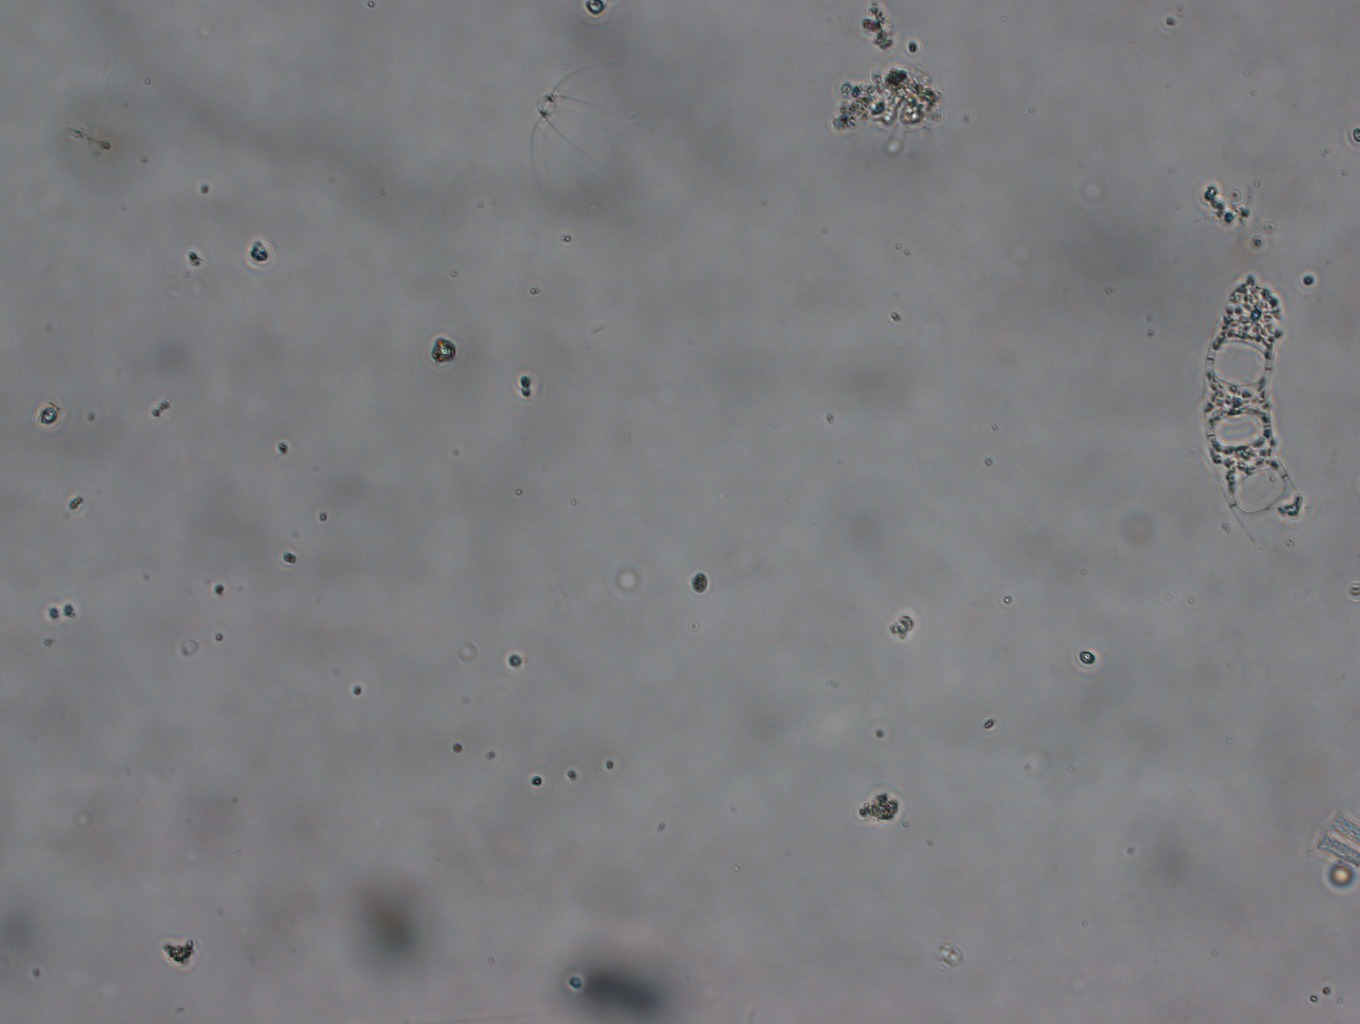eucampia: (1189, 257, 1317, 551)
